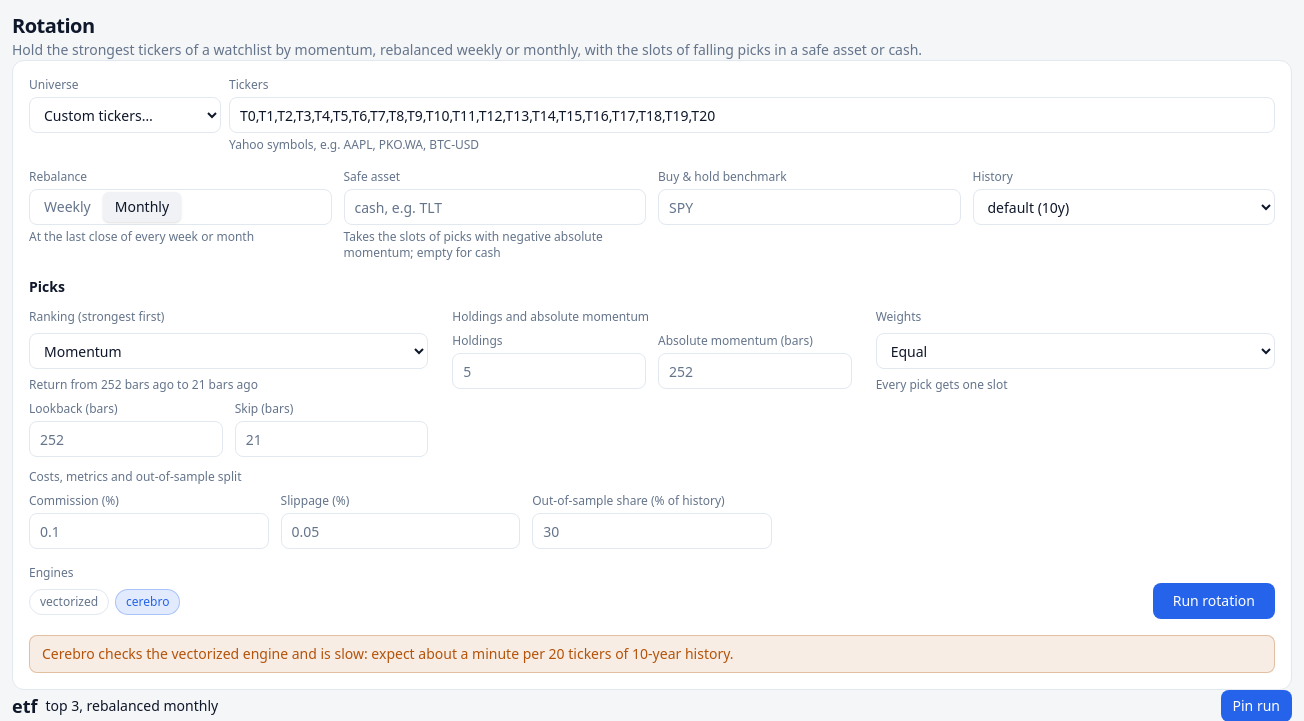
RotationPage › warns that Cerebro is slow on a large universe and needs an engine
Expected: the button "Run rotation" is shown, [1153,583,1275,619]
Expected: the text "Cerebro checks the vectorized engine and is slow" is shown, [42,644,734,663]
What coordinates should you click on to do the following:
click the button "cerebro"
I would click on:
 (148, 602)
Its box is [115,589,180,615].
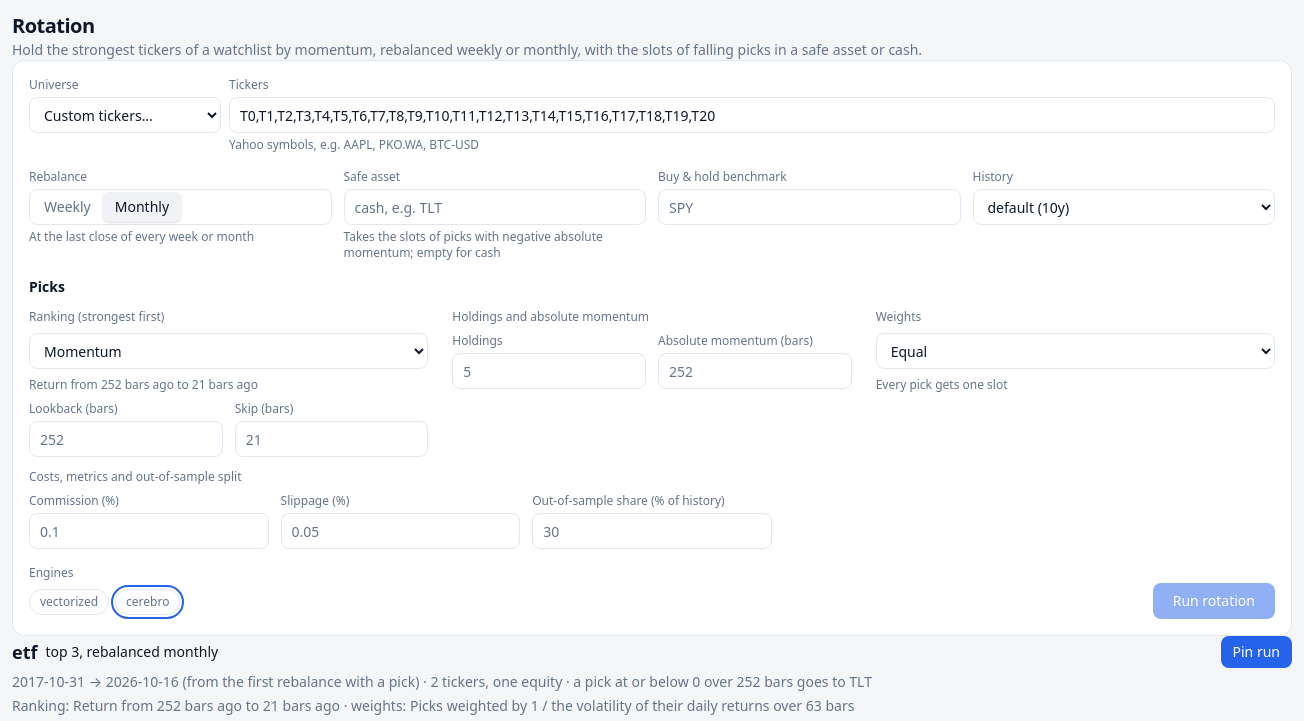
Expected: the text "Cerebro checks the vectorized engine and is slow" is gone
Expected: the button "Run rotation" is disabled, [1153,583,1275,619]
